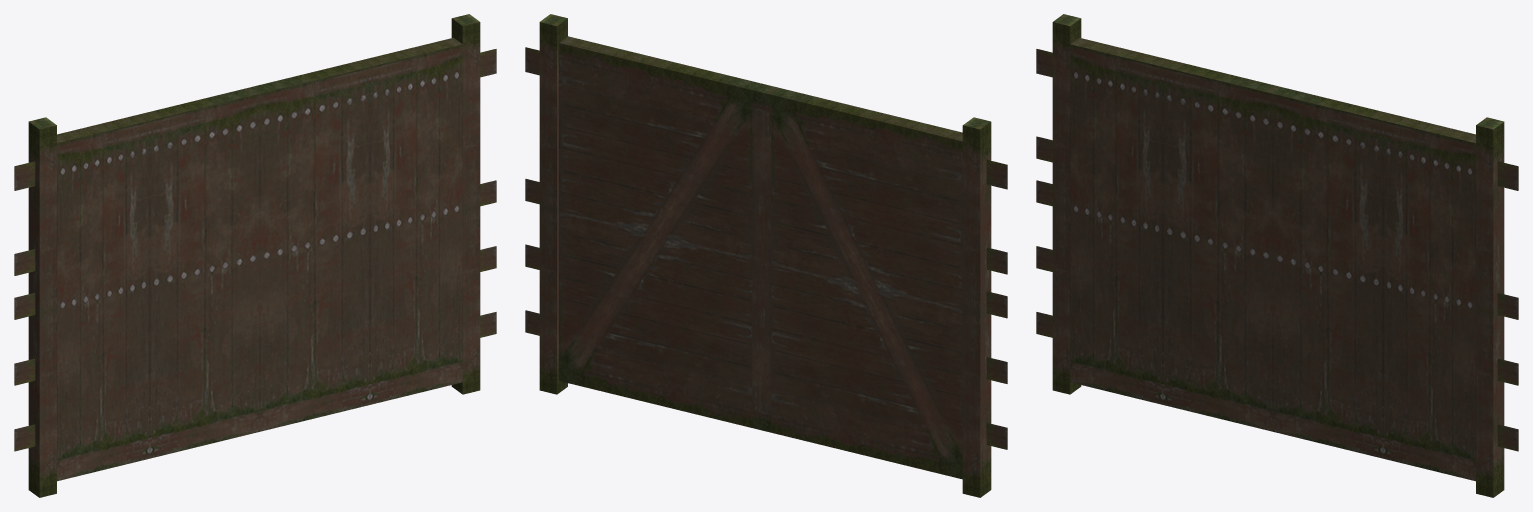
Rendered from b_zx_yuanmenmuqiang01_lod1.FBX.
3 views of the same model, side by side, from view 1: azimuth 30°, elevation 25°; view 2: azimuth 150°, elevation 25°; view 3: azimuth 330°, elevation 25° (orthographic).
Parts seen in each view (by area): view 1: b_zx_yuanmenmuqiang01_lod1; view 2: b_zx_yuanmenmuqiang01_lod1; view 3: b_zx_yuanmenmuqiang01_lod1.
Boxes of the visible parts, x1,y1,x2,y2 form: b_zx_yuanmenmuqiang01_lod1: (14, 14, 496, 497); b_zx_yuanmenmuqiang01_lod1: (525, 14, 1007, 497); b_zx_yuanmenmuqiang01_lod1: (1036, 14, 1518, 497).
Size of the model in its own units: 5.79 by 4.23 by 0.2284.
